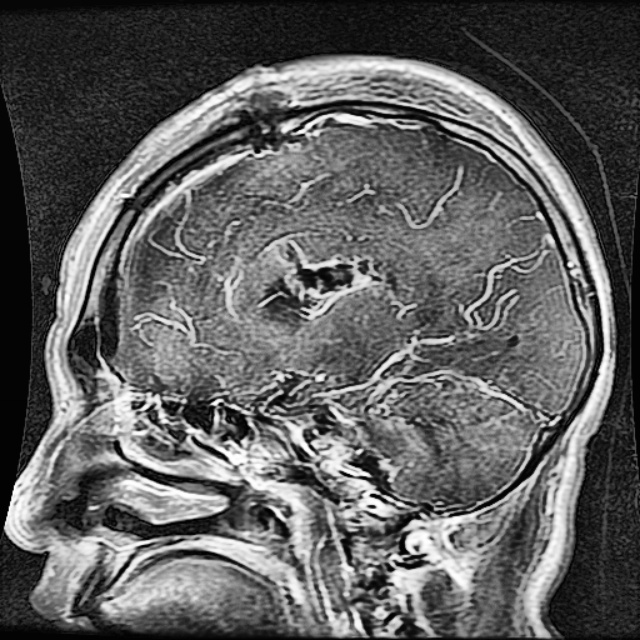Meningioma: (258, 242, 385, 320)
